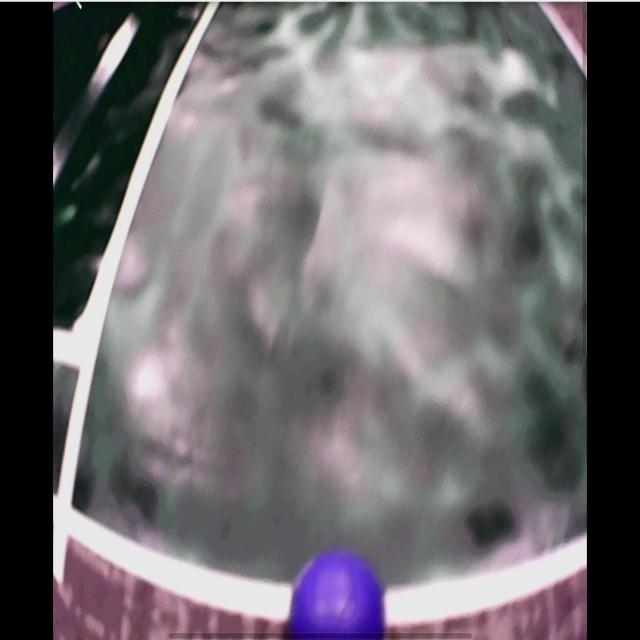ball: (292, 556, 384, 640)
